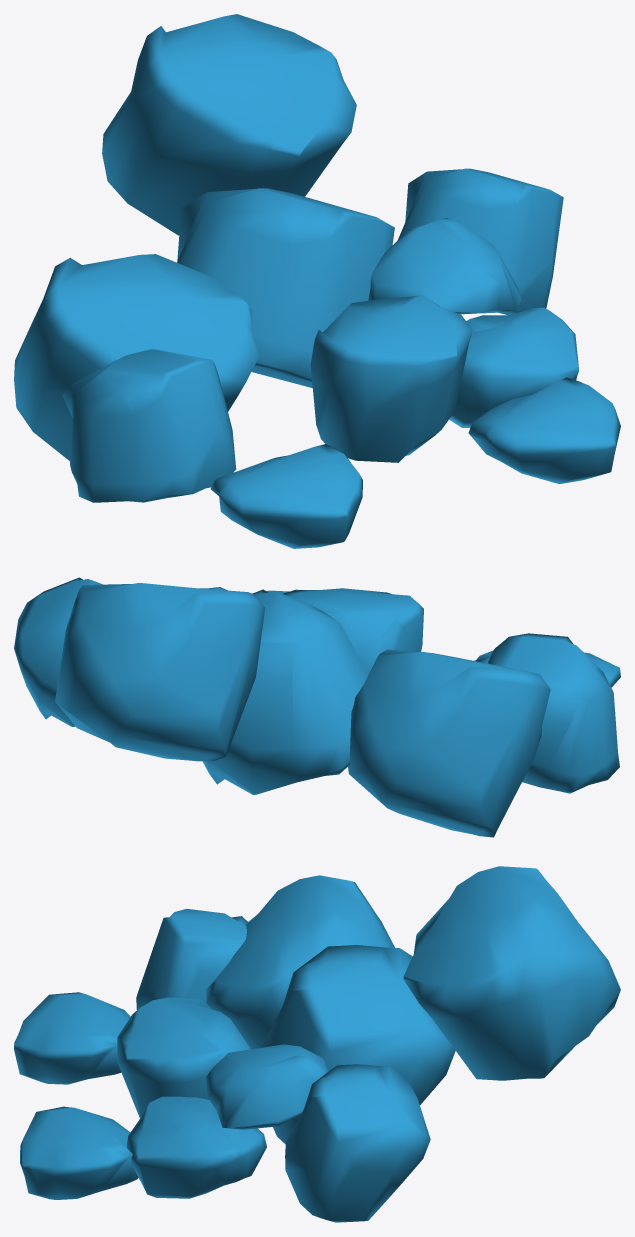
Rendered from Scree_01_Lod2.fbx.
The picture shows the model from 3 angles, top to bottom: view 1: azimuth 30°, elevation 25°; view 2: azimuth 150°, elevation 25°; view 3: azimuth 270°, elevation 25°; orthographic projection. The views are drawn at different scales.
Visible parts, largest first — view 1: Scree_01_Lod2; view 2: Scree_01_Lod2; view 3: Scree_01_Lod2.
Part boxes in pixels (box(x1,y1,x2,y2)): Scree_01_Lod2: box(14, 14, 620, 548); Scree_01_Lod2: box(14, 577, 620, 837); Scree_01_Lod2: box(14, 866, 620, 1222).
Size of the model in its own units: 2018 by 1065 by 2108.
